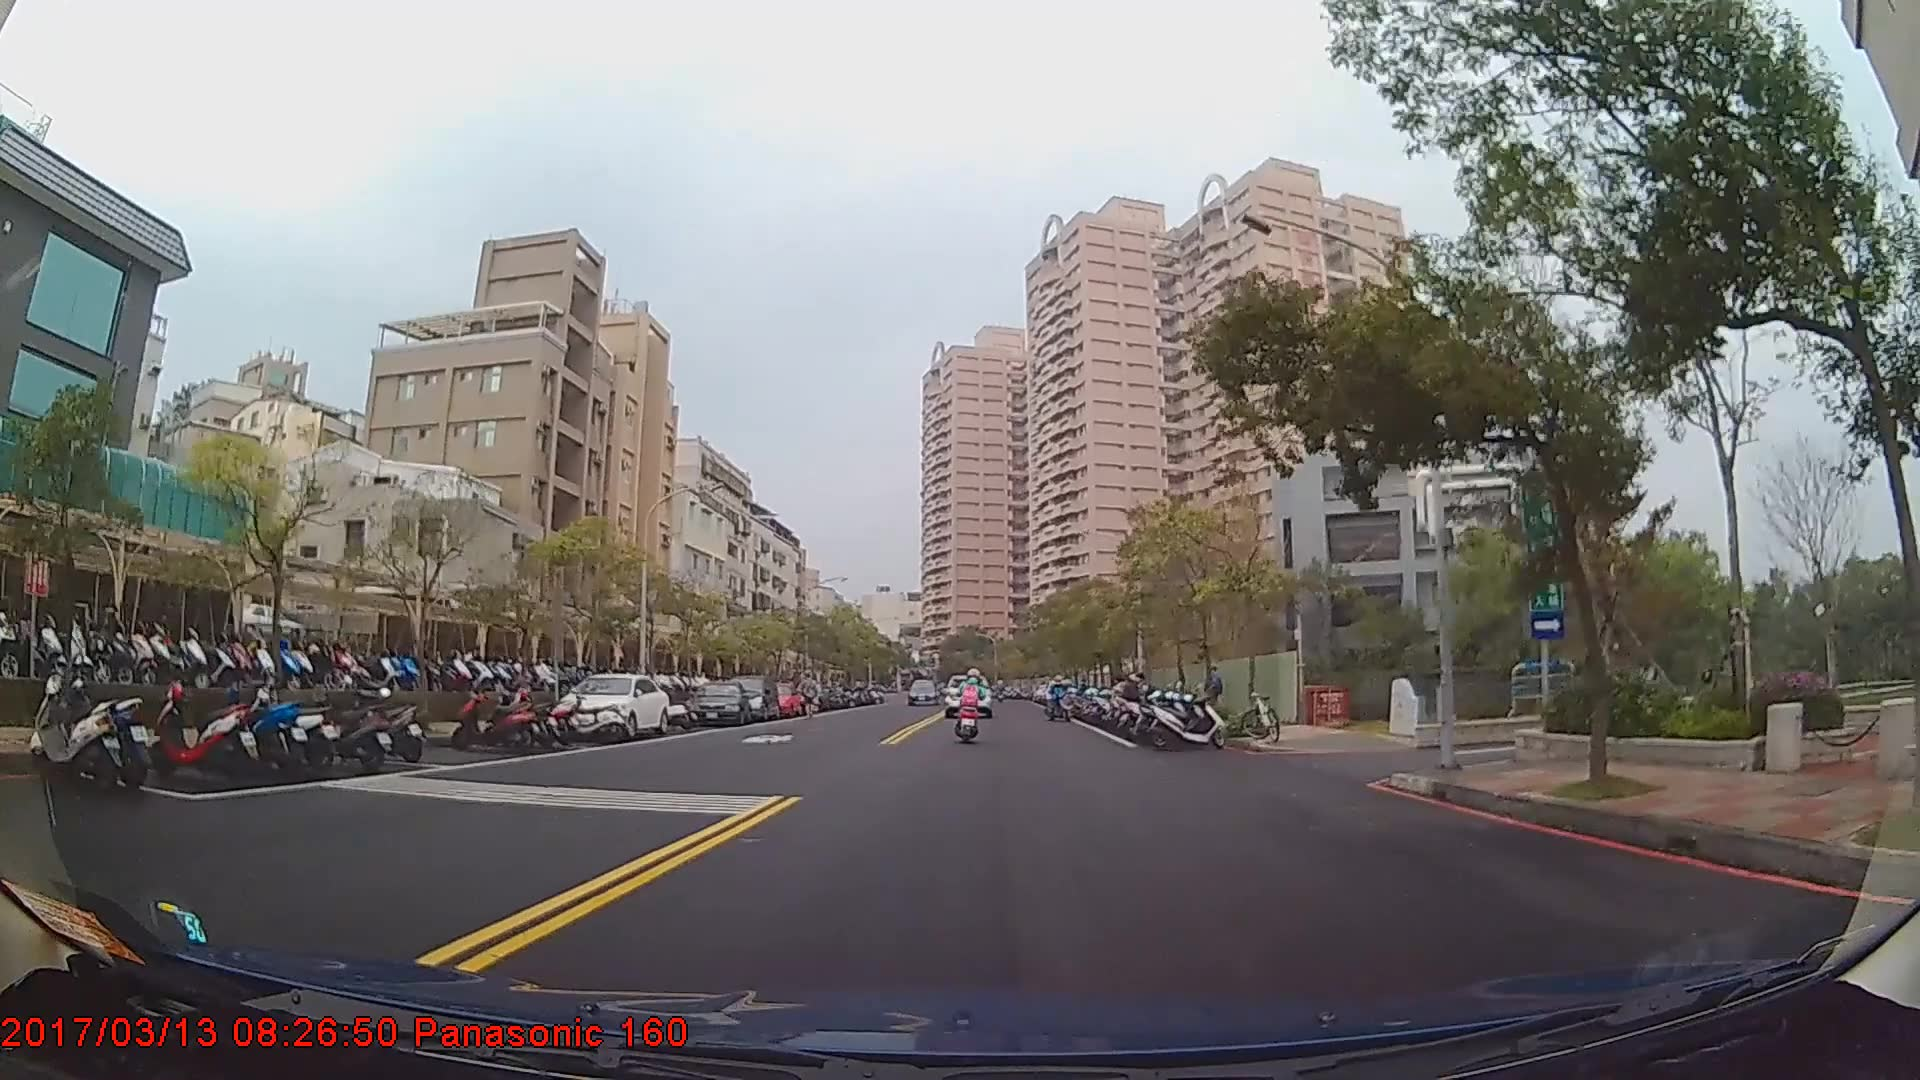pedestrian: (1203, 667, 1226, 724), (797, 676, 820, 722)
rider: (958, 671, 987, 743), (1047, 678, 1071, 724)
vehicle: (555, 672, 671, 739), (685, 681, 749, 727), (721, 673, 782, 721), (943, 672, 992, 719), (906, 678, 936, 704)
